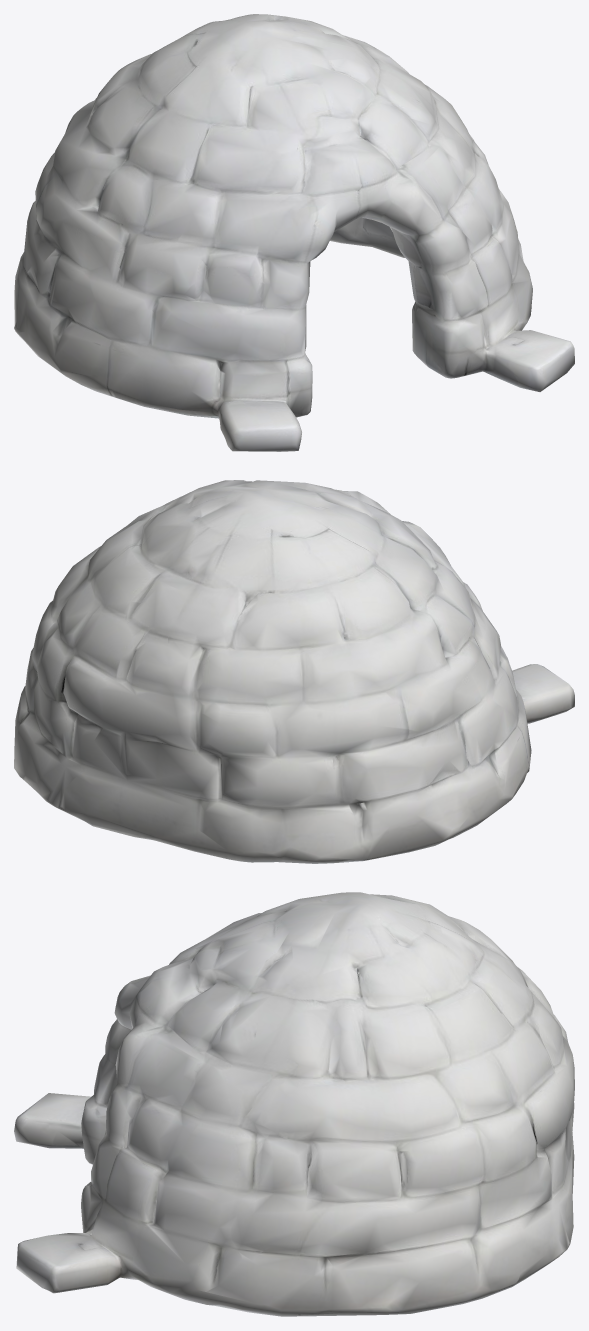
The model's file is wonder_igloo.glb.
3 renders of one model, top to bottom at view 1: azimuth 30°, elevation 25°; view 2: azimuth 150°, elevation 25°; view 3: azimuth 270°, elevation 25°, orthographic. The views are drawn at different scales.
Parts seen in each view (by area): view 1: wonder_igloo; view 2: wonder_igloo; view 3: wonder_igloo.
Boxes of the visible parts, <box> form: wonder_igloo: <box>14,14,574,451</box>; wonder_igloo: <box>14,480,574,863</box>; wonder_igloo: <box>14,892,574,1316</box>.
Bounding box in the file's own units: 1.99 × 1.17 × 1.98.
Materials: 1 (1 with a texture image).
